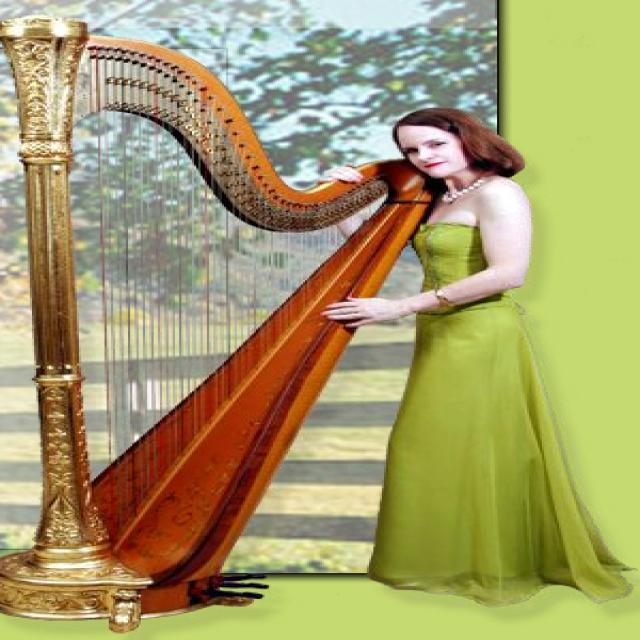harp: (0, 13, 442, 613)
